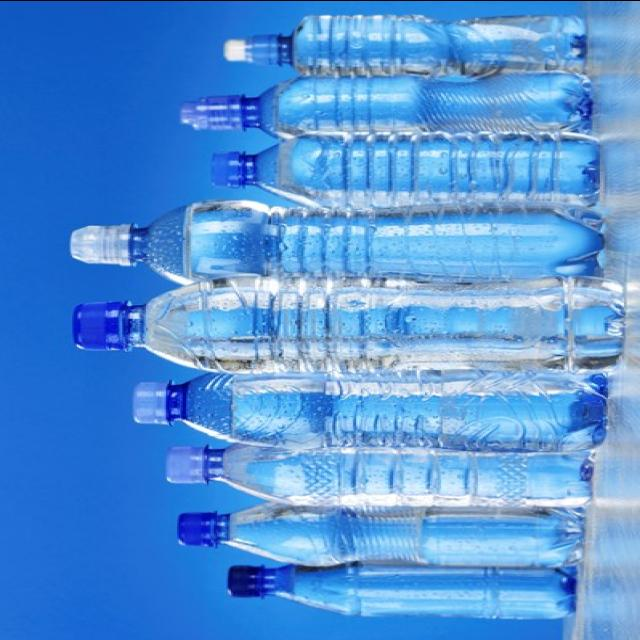bottom: (546, 271, 630, 377), (528, 371, 614, 452), (528, 209, 610, 278), (542, 134, 604, 207), (522, 508, 594, 568), (534, 73, 596, 137), (528, 455, 602, 506), (536, 563, 586, 628), (556, 13, 592, 72)
cap: (51, 289, 138, 364), (62, 216, 146, 273), (166, 89, 256, 135), (218, 22, 292, 72), (176, 504, 236, 556), (160, 443, 228, 488), (124, 376, 180, 424), (220, 558, 272, 603), (202, 153, 256, 189)
